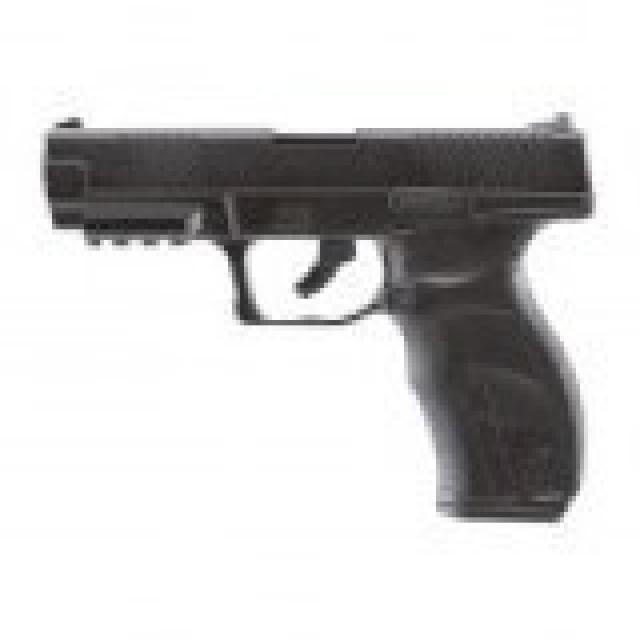Gun: (38, 70, 616, 560)
